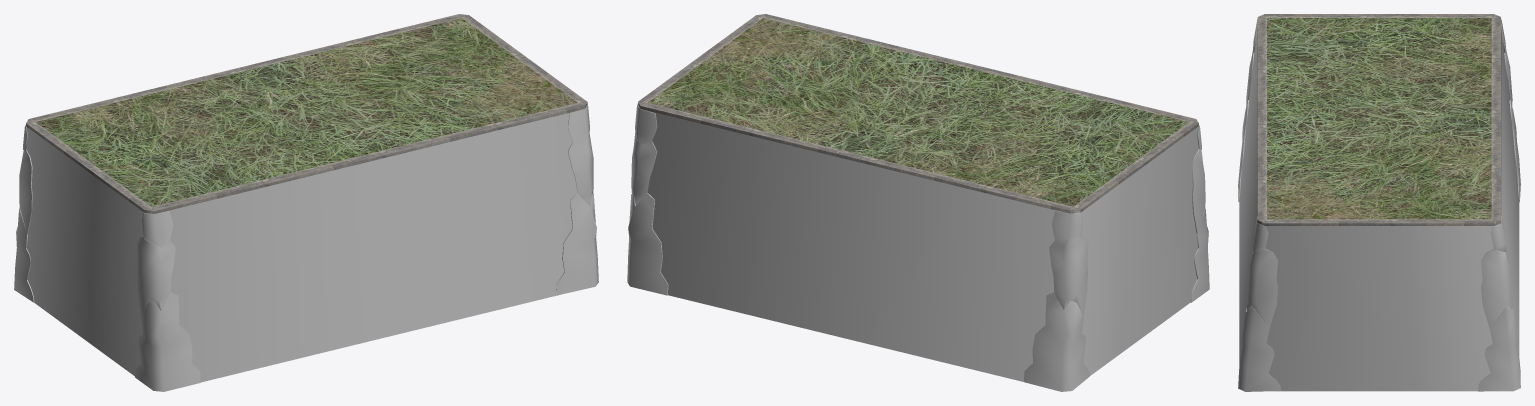
The model's file is JpHouseJ_StoneWall_10b.fbx.
The picture shows the model from 3 angles, left to right: view 1: azimuth 30°, elevation 25°; view 2: azimuth 150°, elevation 25°; view 3: azimuth 270°, elevation 25°; orthographic projection. The views are drawn at different scales.
Visible parts, largest first — view 1: JpHouseJ_StoneWall_10b; view 2: JpHouseJ_StoneWall_10b; view 3: JpHouseJ_StoneWall_10b.
Boxes of the visible parts, x1,y1,x2,y2 form: JpHouseJ_StoneWall_10b: (14,14,598,391); JpHouseJ_StoneWall_10b: (627,14,1209,391); JpHouseJ_StoneWall_10b: (1238,14,1520,391).
Bounding box in the file's own units: 10.81 × 4 × 6.1.
